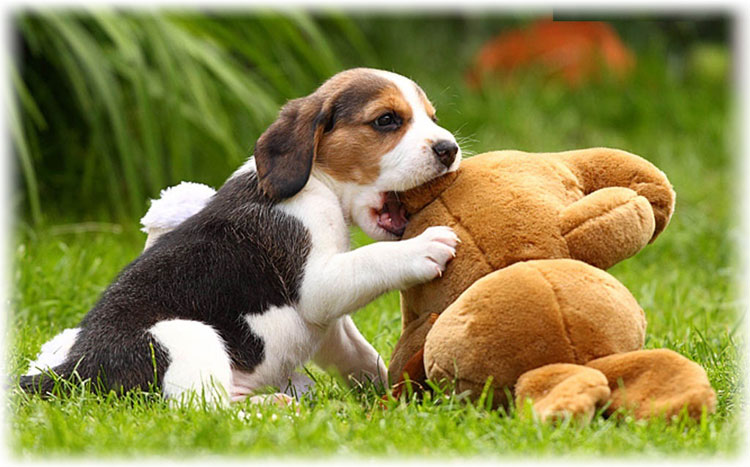dog: (17, 64, 479, 415)
